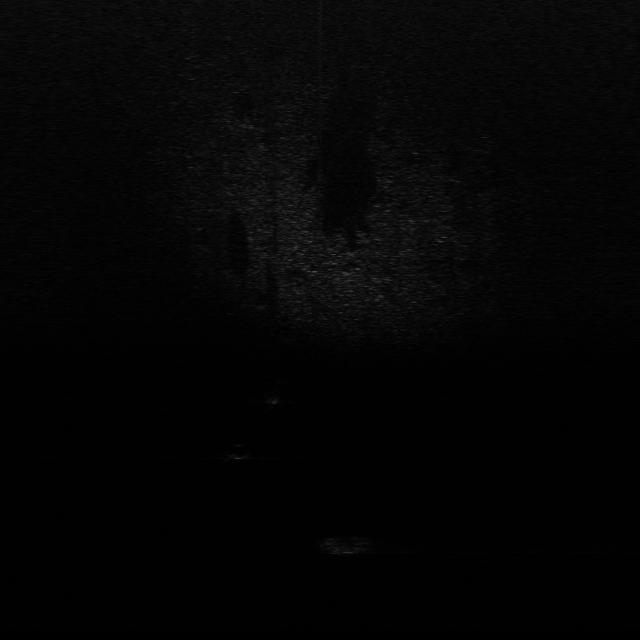ball: (224, 442, 254, 462)
circle cage: (316, 532, 376, 557)
human body: (264, 376, 286, 414)
